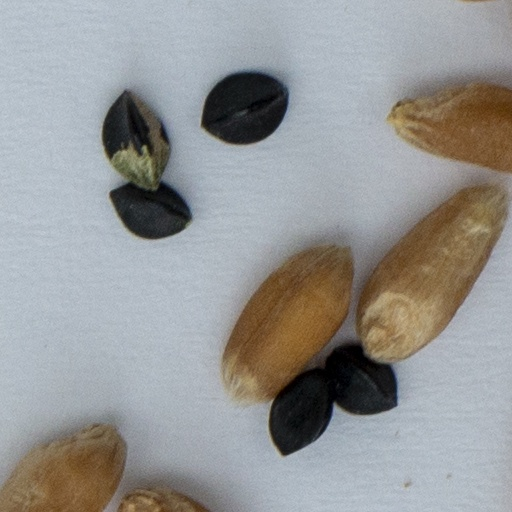Fallopia-Convolvulus-poly: (103, 91, 167, 188), (202, 75, 287, 144), (269, 370, 334, 454), (325, 351, 396, 413), (110, 183, 188, 238)
